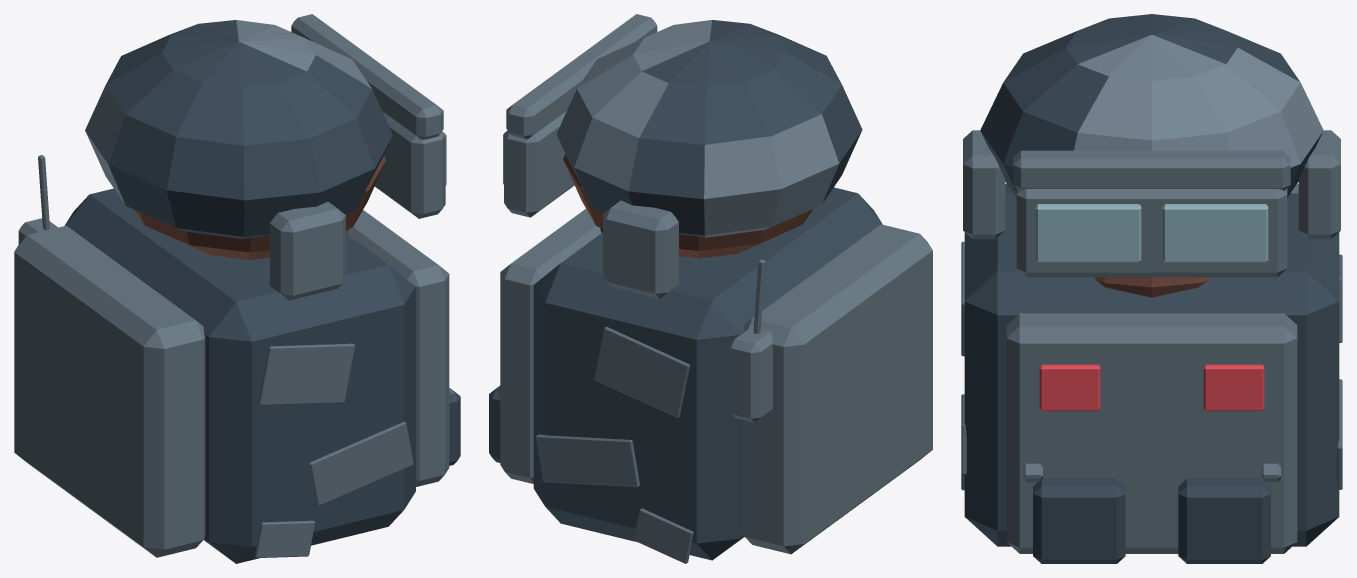
Rendered from crimson-guard.carbon-camo.glb.
3 views of the same model, side by side, from view 1: azimuth 30°, elevation 25°; view 2: azimuth 150°, elevation 25°; view 3: azimuth 270°, elevation 25° (orthographic). The views are drawn at different scales.
Visible parts, largest first — view 1: crimson-guard_carbon-camo__main__torso_finish_657682_0.03, crimson-guard_carbon-camo__main__torso_finish_3c4d5b_0.03, crimson-guard_carbon-camo__main__head_finish_3c4d5b_0.03|fin, crimson-guard_carbon-camo__main__head_finish_657682_0.03, crimson-guard_carbon-camo__main__torso_finish_60717e_0.03, crimson-guard_carbon-camo__main__head_finish_70483b_0.03; view 2: crimson-guard_carbon-camo__main__torso_finish_657682_0.03, crimson-guard_carbon-camo__main__torso_finish_3c4d5b_0.03, crimson-guard_carbon-camo__main__head_finish_3c4d5b_0.03|fin, crimson-guard_carbon-camo__main__head_finish_657682_0.03, crimson-guard_carbon-camo__main__torso_finish_60717e_0.03, crimson-guard_carbon-camo__main__head_finish_70483b_0.03; view 3: crimson-guard_carbon-camo__main__torso_finish_3c4d5b_0.03, crimson-guard_carbon-camo__main__torso_finish_657682_0.03, crimson-guard_carbon-camo__main__head_finish_3c4d5b_0.03|fin, crimson-guard_carbon-camo__main__head_finish_657682_0.03, crimson-guard_carbon-camo__main__head_finish_91b6c0_0.03, crimson-guard_carbon-camo__main__torso_finish_e64f5c_0.03, crimson-guard_carbon-camo__main__torso_finish_60717e_0.03, crimson-guard_carbon-camo__main__head_finish_70483b_0.03.
Part boxes in pixels (bbox=[...]): crimson-guard_carbon-camo__main__torso_finish_657682_0.03: bbox=[14, 155, 453, 557]; crimson-guard_carbon-camo__main__torso_finish_3c4d5b_0.03: bbox=[64, 188, 460, 563]; crimson-guard_carbon-camo__main__head_finish_3c4d5b_0.03|fin: bbox=[85, 20, 392, 239]; crimson-guard_carbon-camo__main__head_finish_657682_0.03: bbox=[270, 14, 445, 300]; crimson-guard_carbon-camo__main__torso_finish_60717e_0.03: bbox=[254, 343, 413, 557]; crimson-guard_carbon-camo__main__head_finish_70483b_0.03: bbox=[134, 155, 386, 259]; crimson-guard_carbon-camo__main__torso_finish_657682_0.03: bbox=[496, 208, 932, 554]; crimson-guard_carbon-camo__main__torso_finish_3c4d5b_0.03: bbox=[489, 187, 882, 560]; crimson-guard_carbon-camo__main__head_finish_3c4d5b_0.03|fin: bbox=[557, 20, 862, 237]; crimson-guard_carbon-camo__main__head_finish_657682_0.03: bbox=[504, 14, 678, 298]; crimson-guard_carbon-camo__main__torso_finish_60717e_0.03: bbox=[536, 326, 693, 563]; crimson-guard_carbon-camo__main__head_finish_70483b_0.03: bbox=[563, 154, 812, 258]; crimson-guard_carbon-camo__main__torso_finish_3c4d5b_0.03: bbox=[964, 193, 1339, 563]; crimson-guard_carbon-camo__main__torso_finish_657682_0.03: bbox=[1005, 183, 1298, 553]; crimson-guard_carbon-camo__main__head_finish_3c4d5b_0.03|fin: bbox=[980, 14, 1323, 197]; crimson-guard_carbon-camo__main__head_finish_657682_0.03: bbox=[963, 130, 1340, 277]; crimson-guard_carbon-camo__main__head_finish_91b6c0_0.03: bbox=[1035, 204, 1268, 262]; crimson-guard_carbon-camo__main__torso_finish_e64f5c_0.03: bbox=[1039, 364, 1264, 410]; crimson-guard_carbon-camo__main__torso_finish_60717e_0.03: bbox=[961, 241, 1342, 490]; crimson-guard_carbon-camo__main__head_finish_70483b_0.03: bbox=[1094, 277, 1209, 297].
Size of the model in its own units: 30.25 by 39.5 by 28.87.
